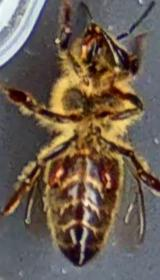varroa_mite: (39, 154, 70, 190), (95, 153, 118, 194)
